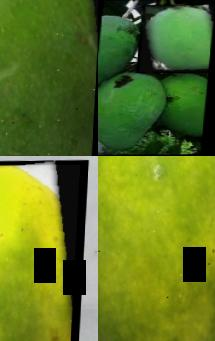PartiallyRipe: (98, 156, 215, 341), (0, 159, 79, 341)
Unripe: (0, 0, 98, 156), (136, 4, 214, 72)
